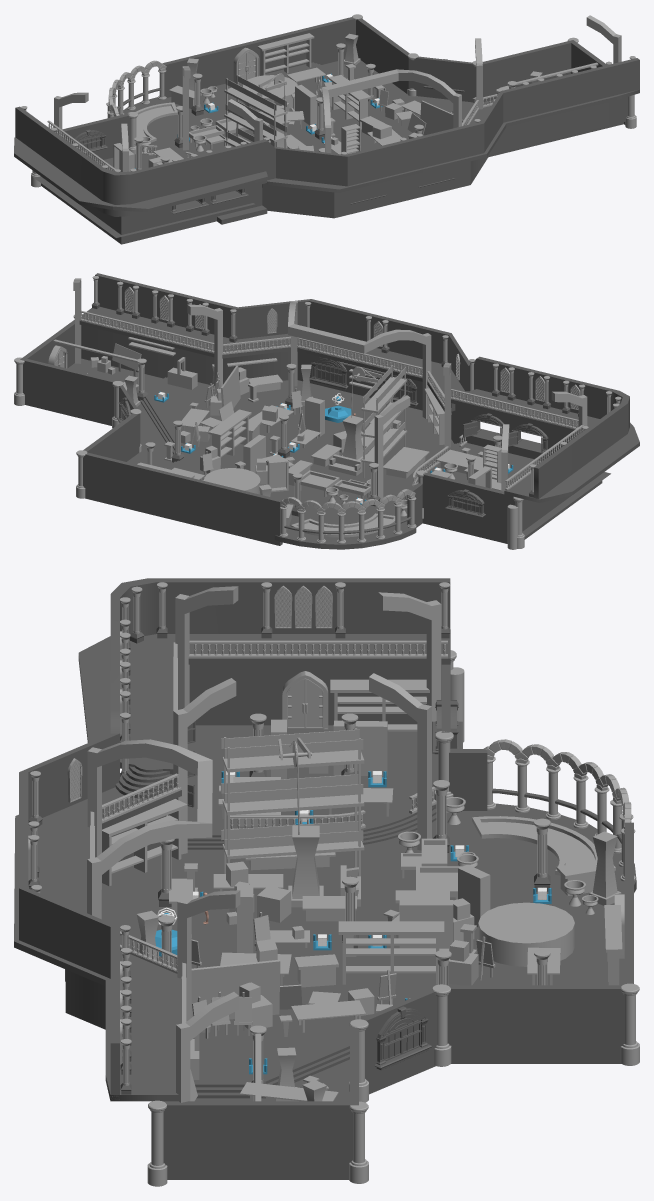
3 views of the same model, one above another, from view 1: azimuth 30°, elevation 25°; view 2: azimuth 150°, elevation 25°; view 3: azimuth 270°, elevation 25° (orthographic). The views are drawn at different scales.
Parts seen in each view (by area): view 1: polySurface93, polySurface189, Cube__3__6, Cube__3__2, Cube__5__1, Cube, pCube101, pCube130, Cube__1__15, polySurface126, Cube__4_, pCube154 (+20 smaller); view 2: polySurface189, polySurface93, Cube__3__6, Cube__3__2, polySurface419, Cube, Cube__15_27, Cube__4_, polySurface126, pCube130, pCube101, Cube__1__15 (+29 smaller); view 3: polySurface189, Cube__3__6, polySurface93, Cube__5__1, Cube, pCube101, Cube__15_27, Cube__3__3, pCube130, polySurface419, pCube133, pCylinder10 (+39 smaller).
Boxes of the visible parts, box(x1,y1,x2,y2) form: polySurface93: box(15, 58, 639, 216); polySurface189: box(14, 89, 639, 244); Cube__3__6: box(123, 64, 467, 224); Cube__3__2: box(162, 17, 355, 97); Cube__5__1: box(356, 18, 484, 102); Cube: box(483, 40, 627, 124); pCube101: box(224, 73, 287, 147); pCube130: box(321, 69, 461, 153); Cube__1__15: box(321, 59, 623, 157); polySurface126: box(72, 59, 464, 214); Cube__4_: box(62, 113, 130, 161); pCube154: box(257, 33, 314, 75); polySurface189: box(79, 307, 639, 539); polySurface93: box(95, 273, 629, 498); Cube__3__6: box(148, 380, 453, 549); Cube__3__2: box(83, 452, 282, 545); polySurface419: box(79, 310, 584, 490); Cube: box(20, 319, 115, 425); Cube__15_27: box(92, 276, 621, 497); Cube__4_: box(407, 472, 511, 543); polySurface126: box(116, 357, 549, 517); pCube130: box(288, 301, 431, 418); pCube101: box(351, 365, 407, 478); Cube__1__15: box(68, 358, 173, 468); polySurface189: box(14, 629, 450, 1101); Cube__3__6: box(101, 803, 636, 1081); polySurface93: box(19, 578, 450, 1099); Cube__5__1: box(350, 985, 624, 1094); Cube: box(163, 1025, 358, 1179); pCube101: box(221, 728, 364, 876); Cube__15_27: box(28, 582, 450, 1094); Cube__3__3: box(167, 725, 438, 833); pCube130: box(87, 739, 212, 919); polySurface419: box(90, 640, 447, 1023); pCube133: box(369, 592, 441, 850); pCylinder10: box(478, 902, 574, 966).
Size of the model in its own units: 12170 by 2196 by 6831.
6 materials, 1 textured.
